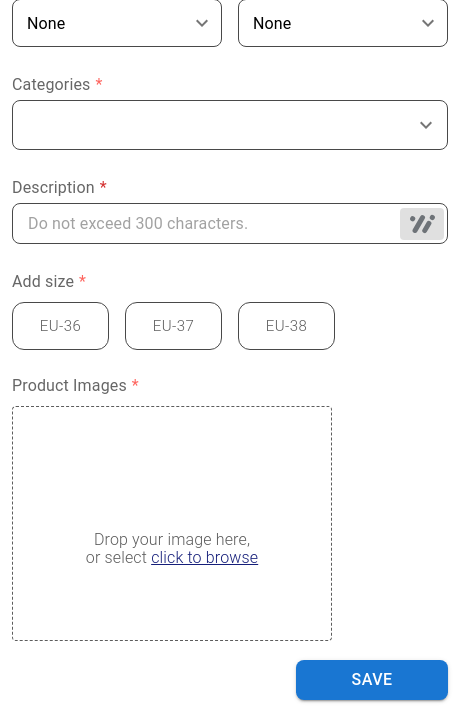
Test: ProductForm Component › should show snackbar on failed validation and validate all inputs if empty
(page scrolled)
Click the button "Save": (372, 680) [296,660,448,700]
(page scrolled)
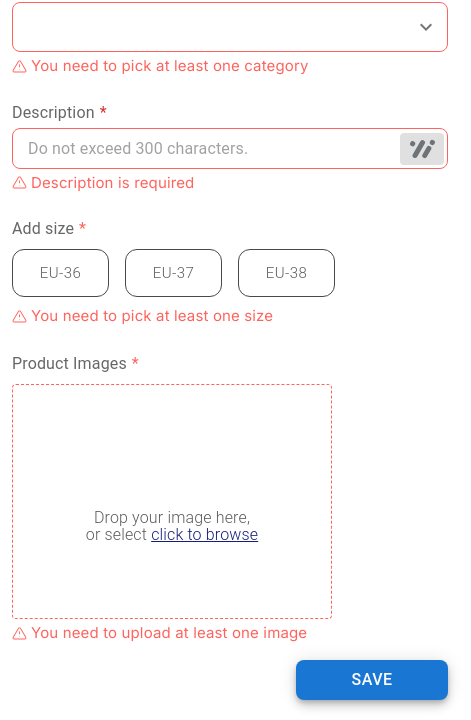
Now the text "You need to pick at least one category" is shown, box [31,55,308,78]
Now the text "Description is required" is shown, box [31,172,194,194]
Now the text "You need to pick at least one size" is shown, box [31,305,273,328]
